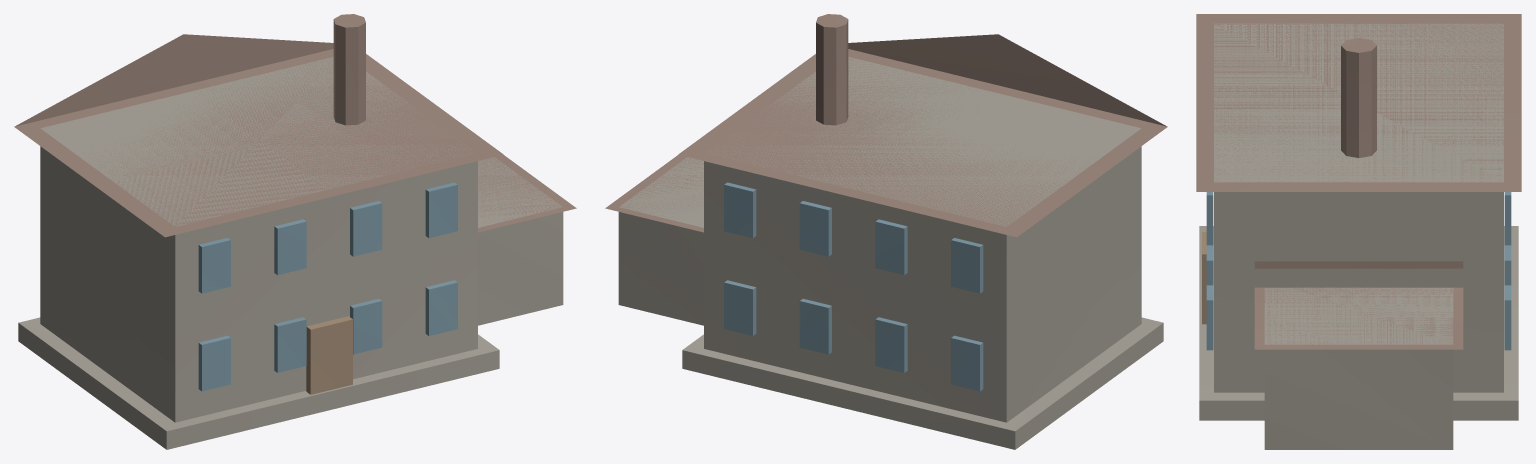
File: barn-06.glb
The picture shows the model from 3 angles, left to right: view 1: azimuth 30°, elevation 25°; view 2: azimuth 150°, elevation 25°; view 3: azimuth 270°, elevation 25°; orthographic projection. The views are drawn at different scales.
Visible parts, largest first — view 1: world; view 2: world; view 3: world.
Part boxes in pixels (<box>): world: <box>14,14,576,449</box>; world: <box>605,14,1167,449</box>; world: <box>1196,14,1521,449</box>.
Size of the model in its own units: 1.97 by 1.34 by 1.18.
